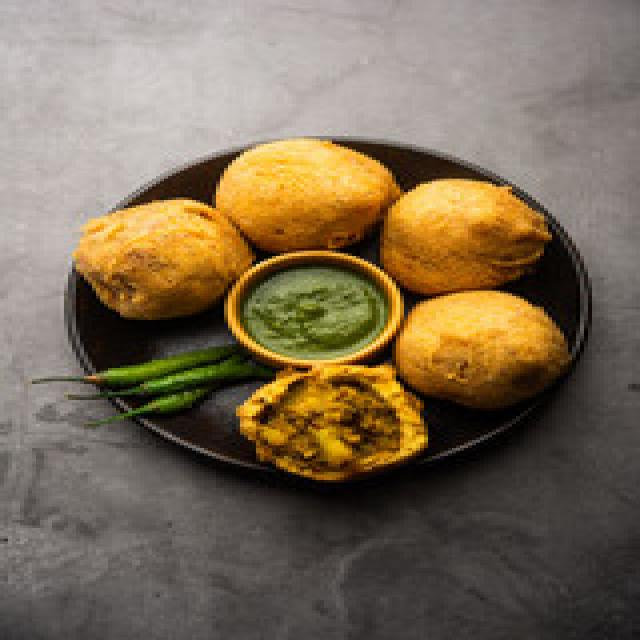BONDA: (72, 139, 568, 477)
GREEN CHUTNEY: (228, 256, 400, 363)
